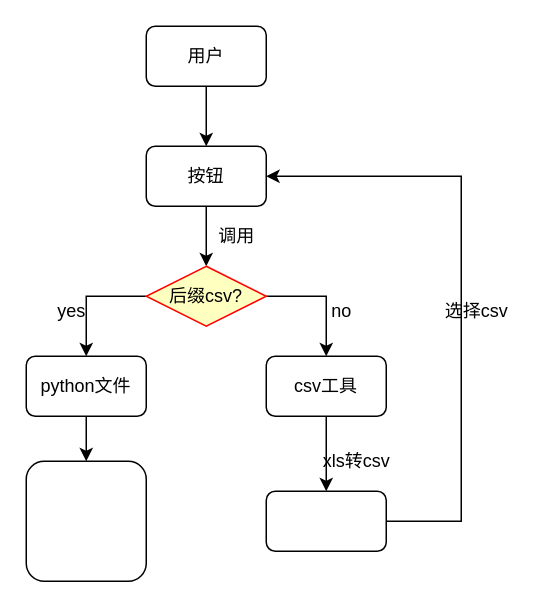
This 548x608 diagram has some shape labels left out. Each missing label, with the centre of its shape:
"csv" belongs at (x=325, y=520).
"pyspark读取csv文件,创建DataFrame,批量写入mysql" belongs at (x=85, y=520).
